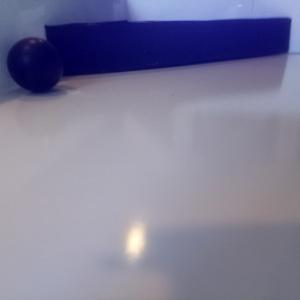zone: (44, 17, 290, 77)
